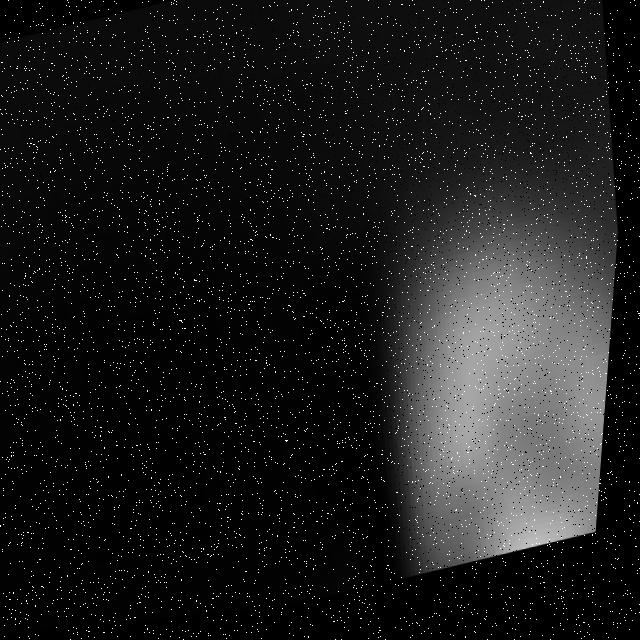person: (341, 130, 630, 597)
